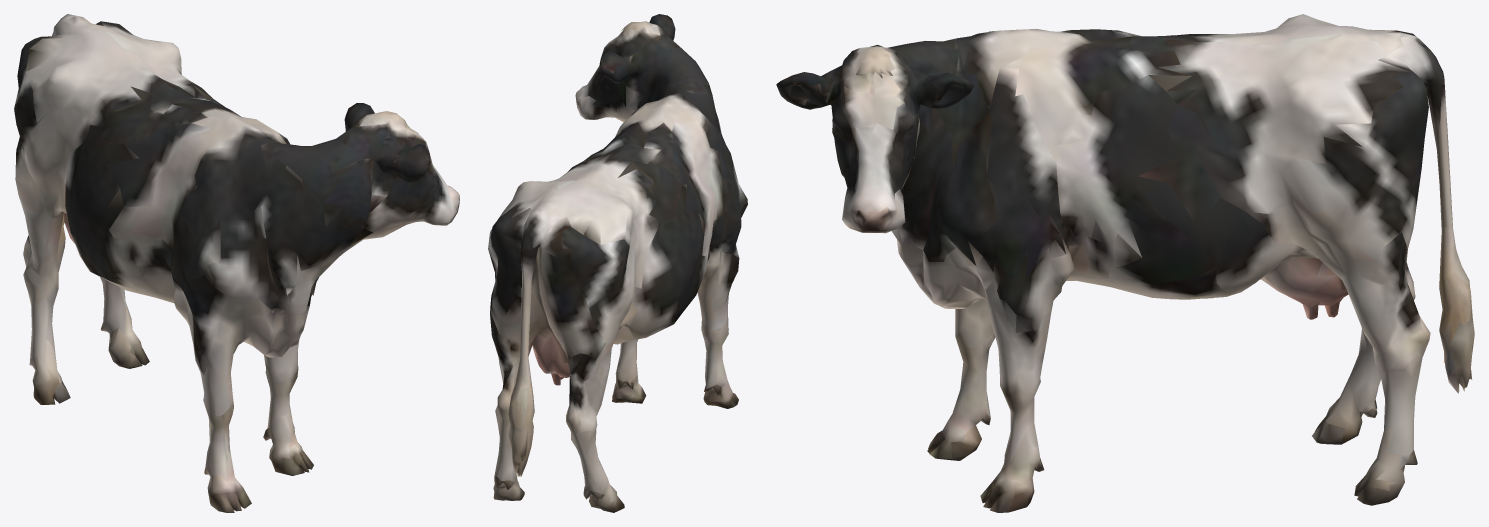
Rendered from cow.glb.
The picture shows the model from 3 angles, left to right: view 1: azimuth 30°, elevation 25°; view 2: azimuth 150°, elevation 25°; view 3: azimuth 270°, elevation 25°; orthographic projection. The views are drawn at different scales.
Visible parts, largest first — view 1: LO.001; view 2: LO.001; view 3: LO.001.
Boxes of the visible parts, <box> form: LO.001: <box>14,14,459,512</box>; LO.001: <box>488,14,747,512</box>; LO.001: <box>776,14,1474,512</box>.
Bounding box in the file's own units: 1.19 × 1.73 × 2.3.
Materials: 1 (1 with a texture image).
